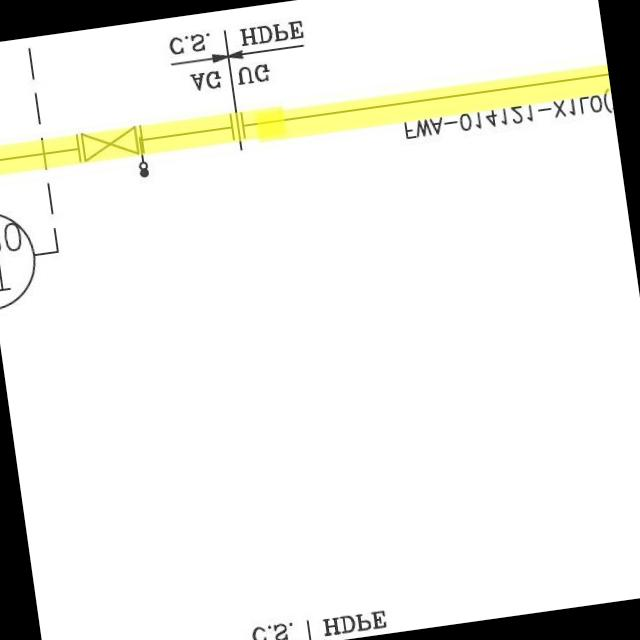GV: (76, 122, 142, 167)
